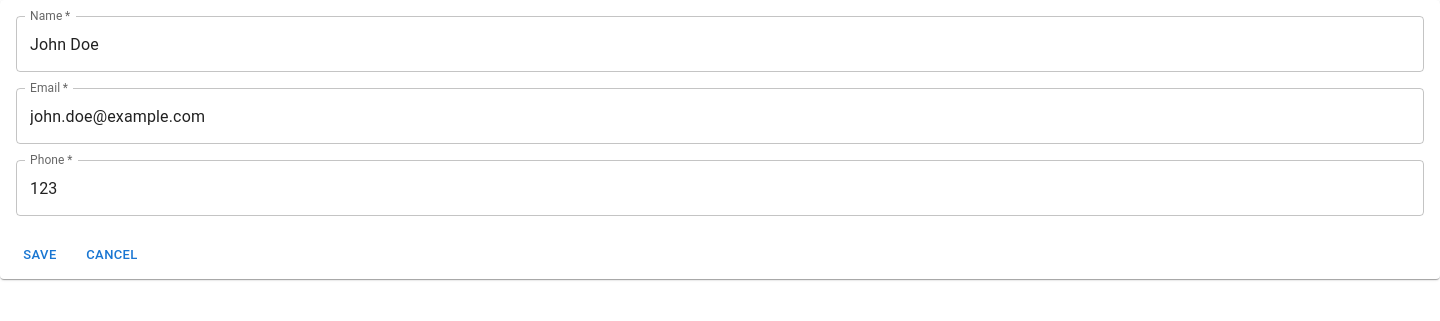
Test: ProfileEditor Component › displays validation errors for invalid phone number
Click the button "Save".
click(40, 255)  # box [8, 240, 72, 271]
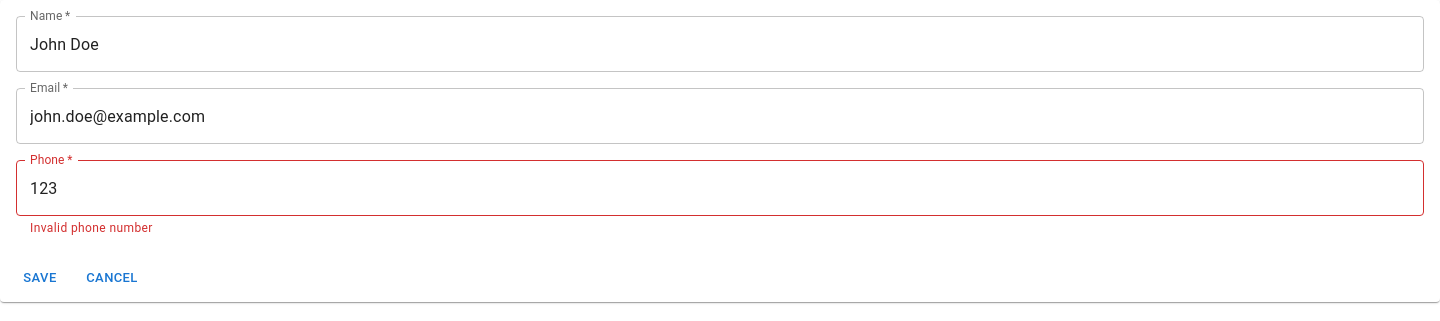
Result: the text "Invalid phone number" is shown at [30, 221, 153, 235]
